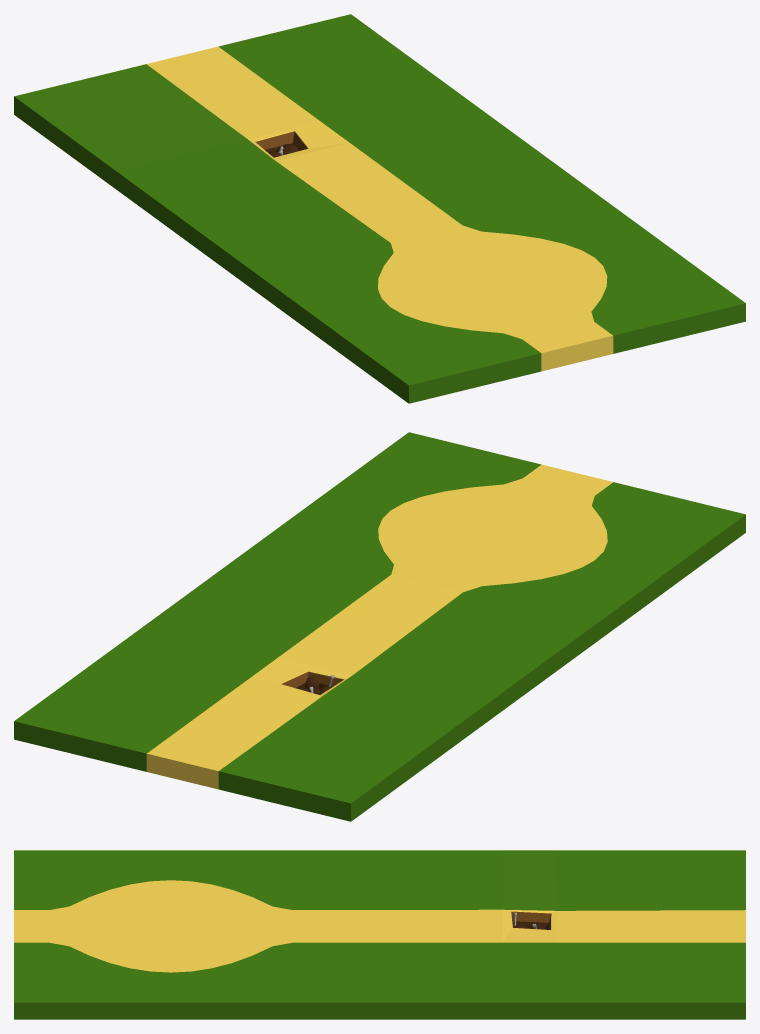
The model's file is SM_Rasentile_04.fbx.
3 renders of one model, top to bottom at view 1: azimuth 30°, elevation 25°; view 2: azimuth 150°, elevation 25°; view 3: azimuth 270°, elevation 25°, orthographic. The views are drawn at different scales.
Visible parts, largest first — view 1: Rasentile_04.001; view 2: Rasentile_04.001; view 3: Rasentile_04.001.
Boxes of the visible parts, x1,y1,x2,y2 form: Rasentile_04.001: [14, 14, 745, 403]; Rasentile_04.001: [14, 432, 745, 821]; Rasentile_04.001: [14, 850, 745, 1019].
Size of the model in its own units: 2461 by 159 by 4996.
